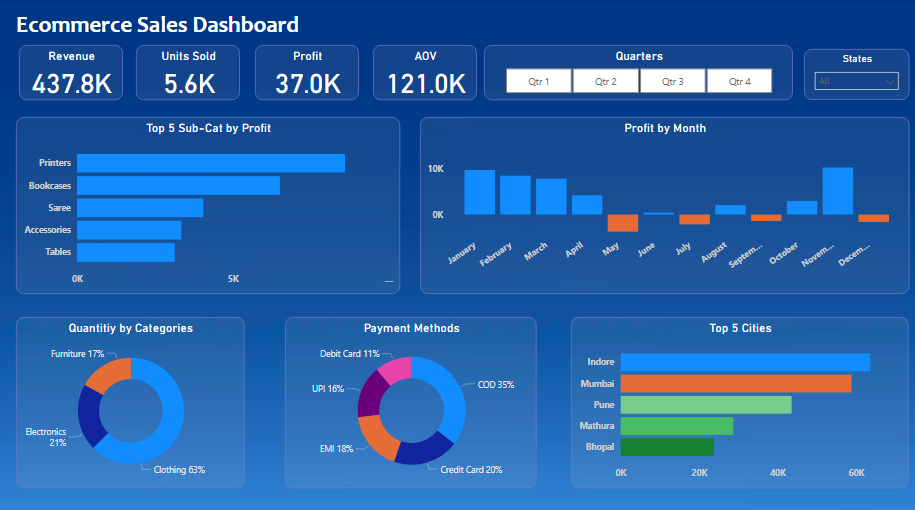

Layout of this report page (visuals, bound fields, positions):
{"tool":"powerbi","page":{"name":"Page 1","canvas":[1280,720],"ordinal":0},"visuals":[{"type":"textbox","box":[9.8,11.2,422.8,54.4],"z":0},{"type":"columnChart","title":"Profit by Month","fields":{"Y":["Sum(Details.Profit)"],"Category":["Orders.Order Date.Variation.Date Hierarchy.Month"]},"box":[587.1,164.3,682.9,247.1],"z":1000},{"type":"barChart","title":"Top 5 Cities","fields":{"Y":["Sum(Details.Amount)"],"Category":["Orders.City"]},"box":[798.6,444.3,471.4,238.6],"z":2000},{"type":"donutChart","title":"Payment Methods","fields":{"Category":["Details.PaymentMode"],"Y":["Sum(Details.Amount)"]},"box":[398.6,444.3,351.4,238.6],"z":3000},{"type":"barChart","title":"Top 5 Sub-Cat by Profit","fields":{"Category":["Details.Sub-Category"],"Y":["Sum(Details.Profit)"]},"box":[24.3,164.3,535.7,247.1],"z":4000},{"type":"donutChart","title":"Quantitiy by Categories","fields":{"Category":["Details.Category"],"Y":["Sum(Details.Quantity)"]},"box":[24.3,444.3,318.6,238.6],"z":5000},{"type":"card","title":"Profit","fields":{"Values":["Sum(Details.Profit)"]},"box":[357.1,64.3,145,77],"z":6000},{"type":"card","title":"Units Sold","fields":{"Values":["Sum(Details.Quantity)"]},"box":[191.4,64.3,145,77],"z":7000},{"type":"card","title":"Revenue","fields":{"Values":["Sum(Details.Amount)"]},"box":[28.6,64.3,145,77],"z":8000},{"type":"card","title":"AOV","fields":{"Values":["Sum(Details.AOV)"]},"box":[521.4,64.3,145,77],"z":9000},{"type":"slicer","title":"Quarters","fields":{"Values":["Orders.Order Date.Variation.Date Hierarchy.Quarter"]},"box":[677.1,64.3,431.4,77.1],"z":10000},{"type":"slicer","title":"States","fields":{"Values":["Orders.State"]},"box":[1122.9,70,147.1,71.4],"z":11000}]}

Visuals, with their boxes in screenshot pixels (x1, y1, x2, y2), scaled from the page's 1280x720 canvas onto the 915x510 screenshot:
textbox: 7 8 309 46
"Profit by Month" columnChart: 420 116 908 291
"Top 5 Cities" barChart: 571 315 908 484
"Payment Methods" donutChart: 285 315 536 484
"Top 5 Sub-Cat by Profit" barChart: 17 116 400 291
"Quantitiy by Categories" donutChart: 17 315 245 484
"Profit" card: 255 46 359 100
"Units Sold" card: 137 46 240 100
"Revenue" card: 20 46 124 100
"AOV" card: 373 46 476 100
"Quarters" slicer: 484 46 792 100
"States" slicer: 803 50 908 100
